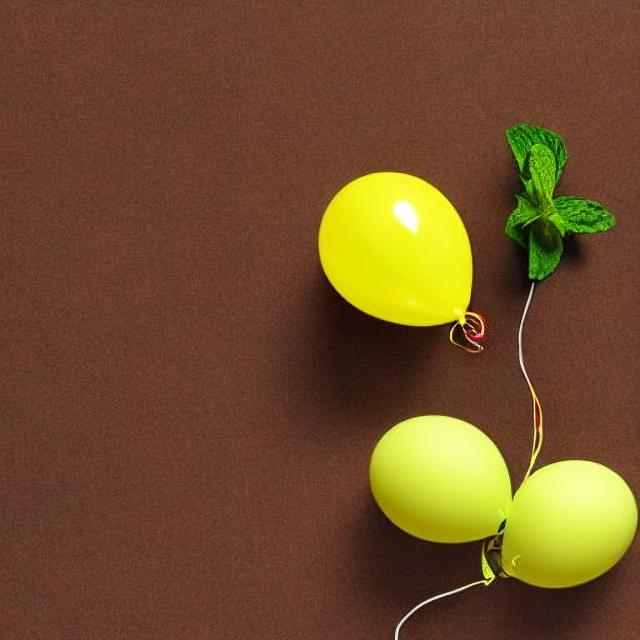balloon: (310, 165, 480, 329), (361, 408, 514, 545), (483, 455, 634, 587)
floating object: (447, 306, 488, 355)
